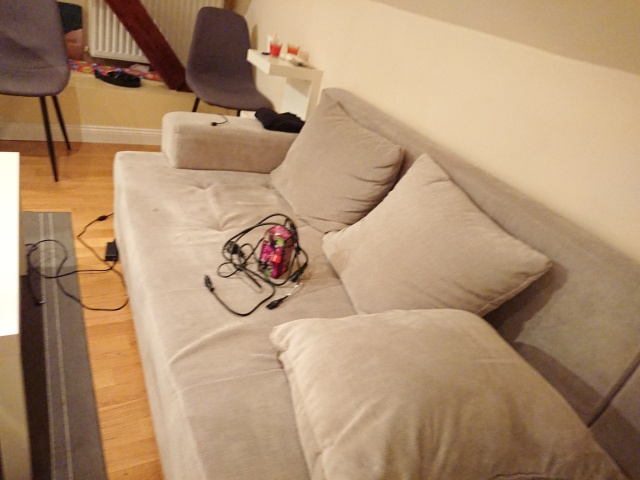Franck Black Currant Tea 60g: (255, 222, 299, 281)
